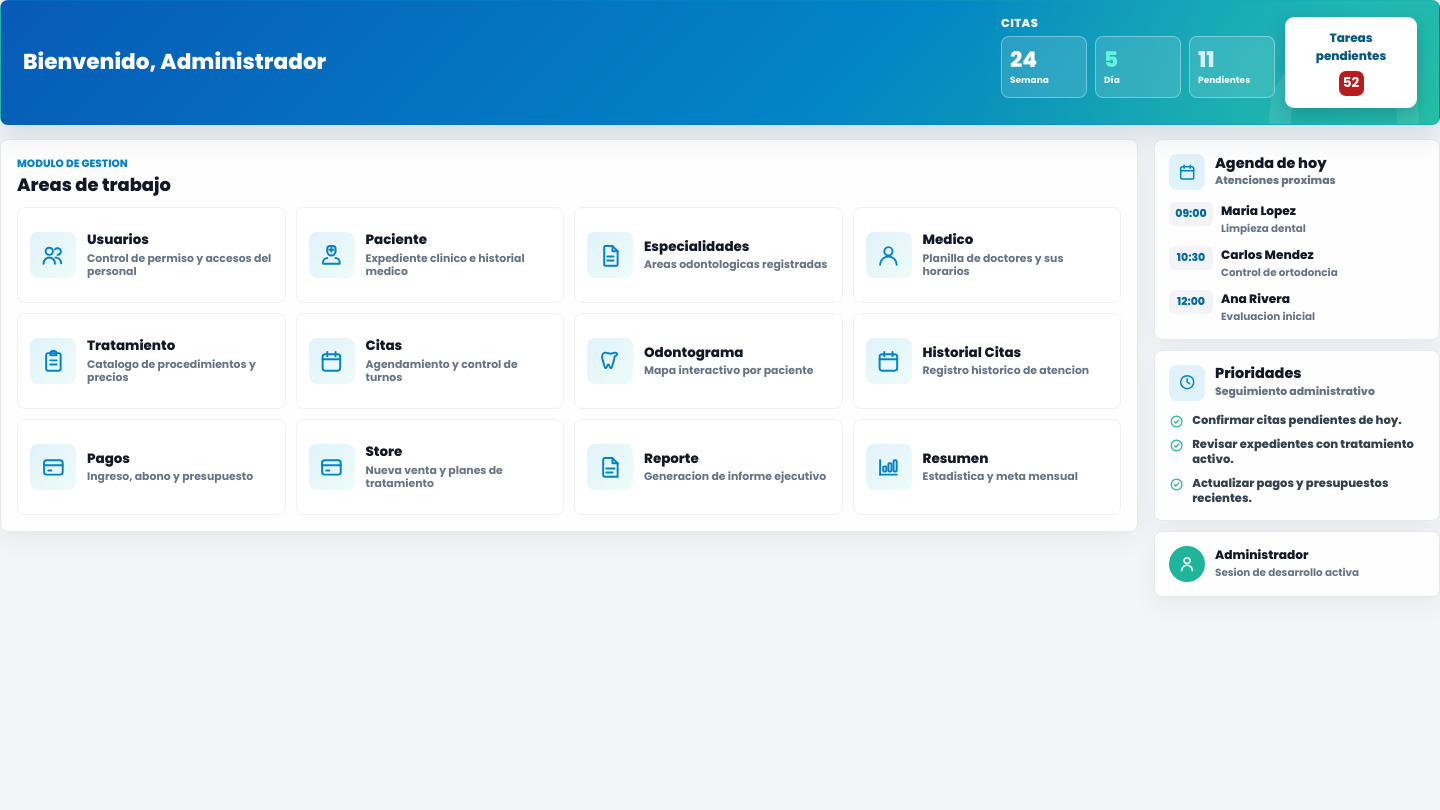
Test case: abre tareas individuales sin desplazar los módulos
The image size is (1440, 810).
Expected: the heading "Areas de trabajo" is shown, [17, 175, 171, 195]
Click the button with aria-label "Tareas pendientes, 52": x=1351, y=62 [1285, 17, 1417, 108]
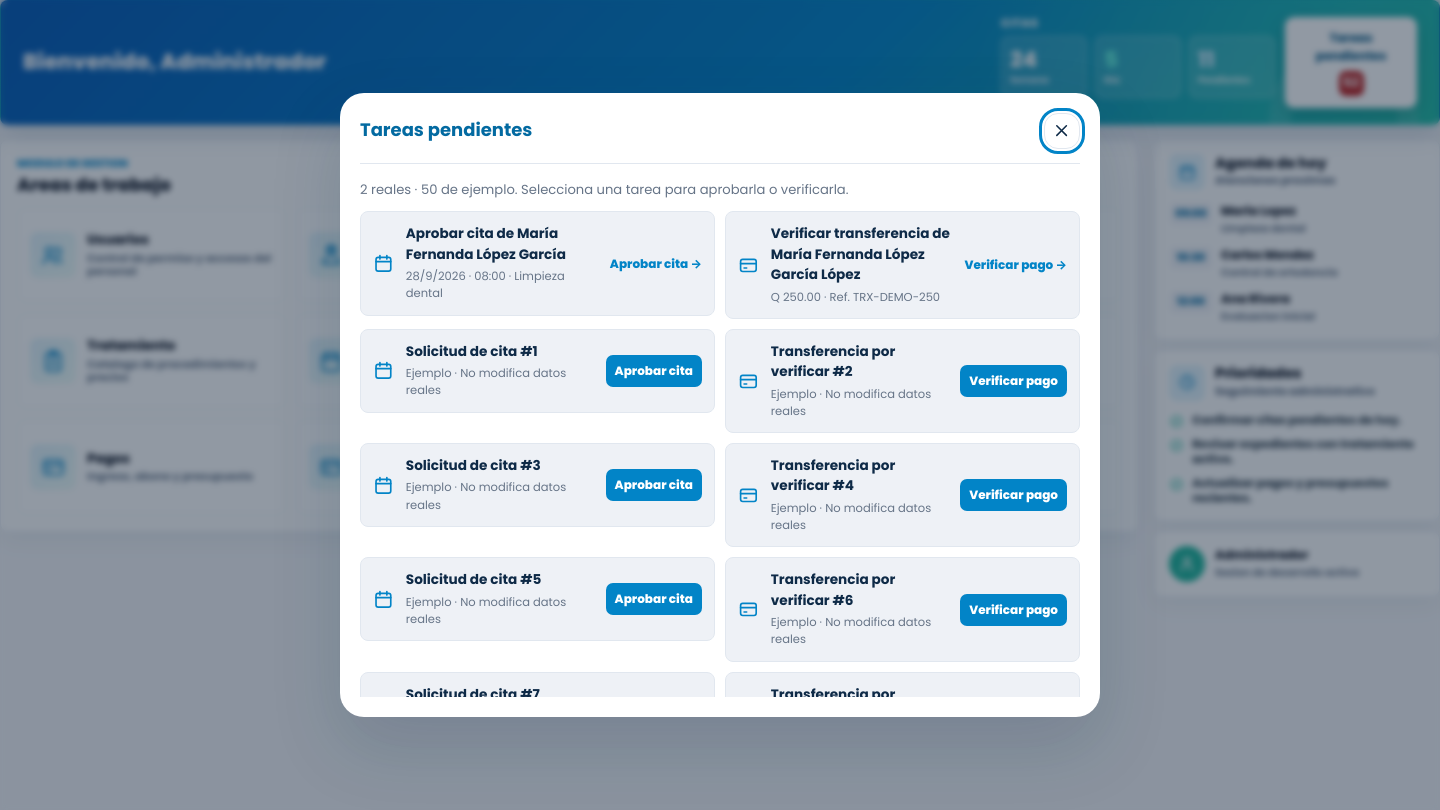
Now the dialog "Tareas pendientes" is shown, box [340, 93, 1100, 717]
